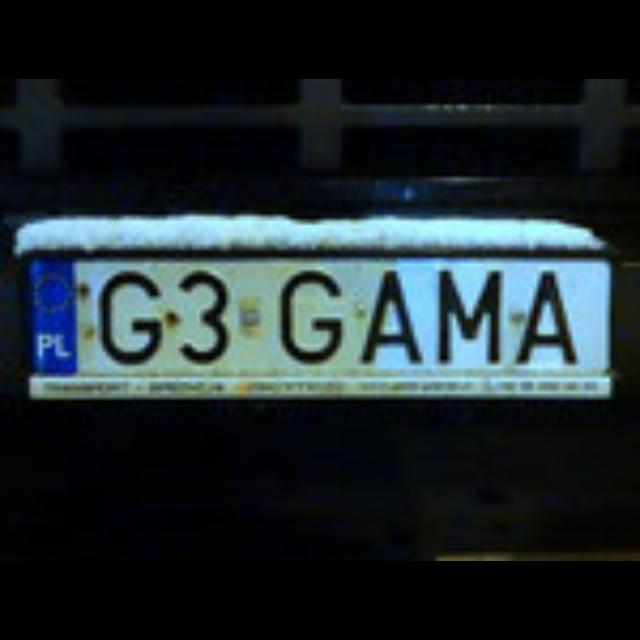pl_license_plate: (26, 254, 606, 370)
